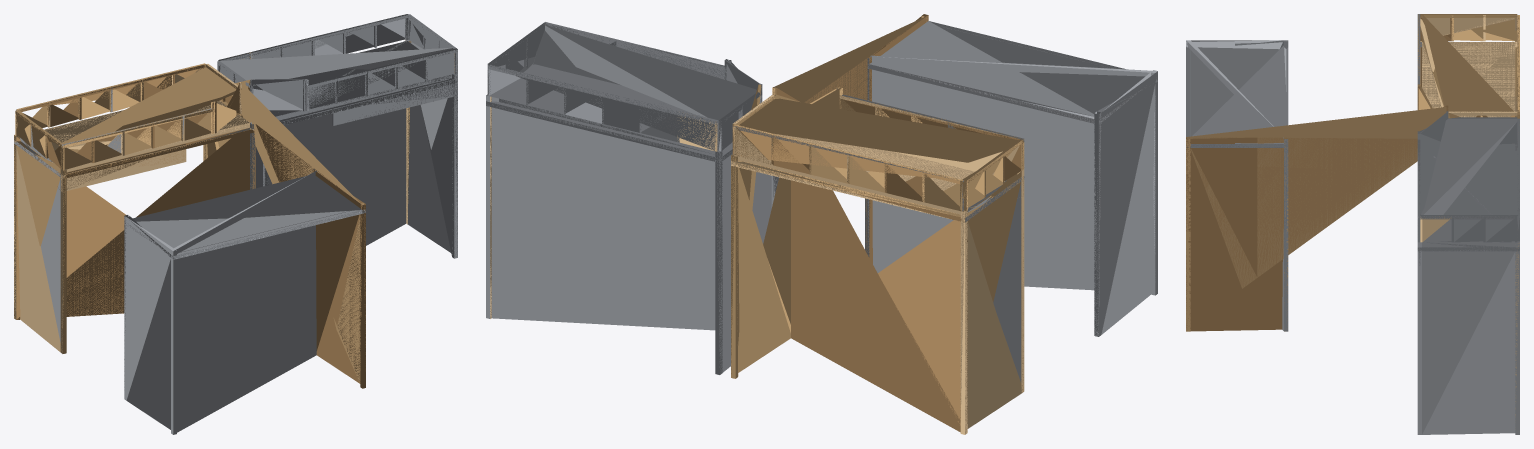
File: 四人宿舍.obj
3 views of the same model, side by side, from view 1: azimuth 30°, elevation 25°; view 2: azimuth 150°, elevation 25°; view 3: azimuth 270°, elevation 25° (orthographic). The views are drawn at different scales.
Parts seen in each view (by area): view 1: 床梯, 床架, 衣柜, 桌上书架, 右侧贯通柜, 书桌; view 2: 床架, 衣柜, 床梯, 右侧贯通柜, 书桌, 桌上书架; view 3: 床架, 桌上书架, 床梯, 右侧贯通柜, 衣柜, 书桌.
Boxes of the visible parts, left/top/right/bottom form: 床梯: left=124, top=169, right=365, bottom=434; 床架: left=217, top=14, right=457, bottom=258; 衣柜: left=14, top=80, right=255, bottom=353; 桌上书架: left=211, top=77, right=365, bottom=388; 右侧贯通柜: left=15, top=64, right=241, bottom=169; 书桌: left=17, top=63, right=214, bottom=170; 床架: left=486, top=22, right=778, bottom=374; 衣柜: left=731, top=84, right=1024, bottom=434; 床梯: left=865, top=21, right=1157, bottom=336; 右侧贯通柜: left=732, top=94, right=1022, bottom=211; 书桌: left=733, top=95, right=1024, bottom=184; 桌上书架: left=732, top=14, right=928, bottom=263; 床架: left=1417, top=111, right=1519, bottom=434; 桌上书架: left=1186, top=84, right=1517, bottom=331; 床梯: left=1186, top=40, right=1288, bottom=331; 右侧贯通柜: left=1420, top=14, right=1517, bottom=117; 衣柜: left=1417, top=14, right=1517, bottom=118; 书桌: left=1418, top=15, right=1519, bottom=118.
Size of the model in its own units: 430 by 223 by 300.
